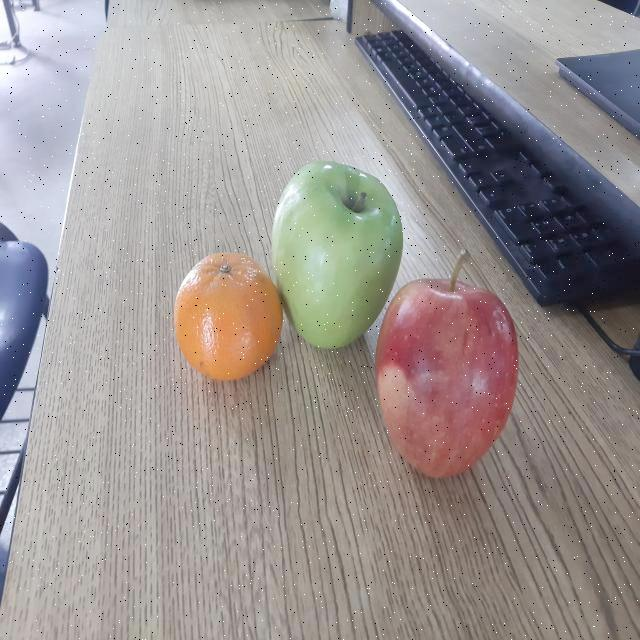Apel Gala: (372, 242, 521, 482)
Apel Granny Smith: (270, 158, 406, 354)
Jeruk Mandarin: (172, 244, 283, 386)
